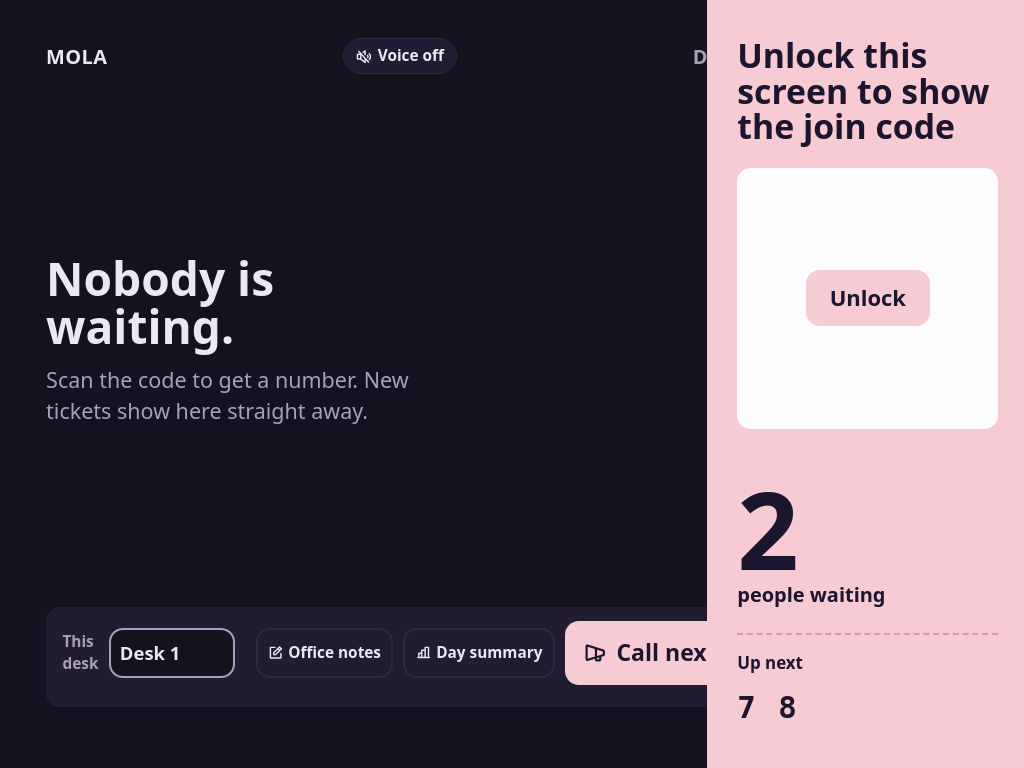
Test: routes summary replies to the open dialog
Click the button "Day summary".
click(479, 653)  # box x1=404 y1=628 x2=555 y2=678
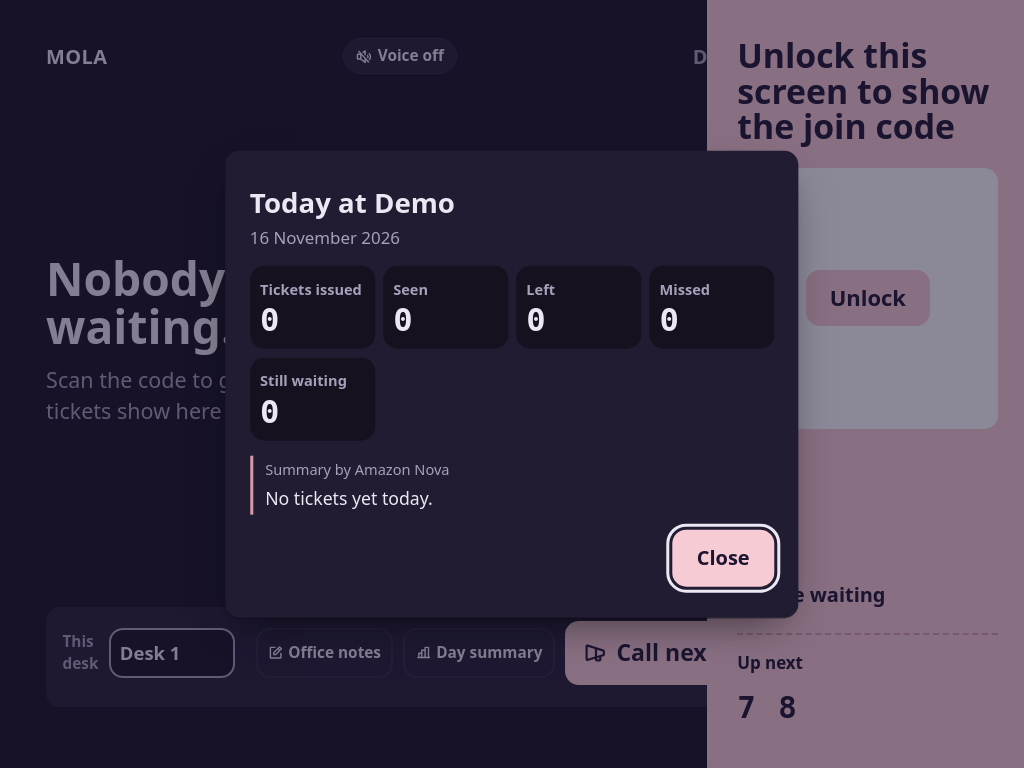
Now the text "No tickets yet today." is shown, box x1=265 y1=486 x2=433 y2=510
